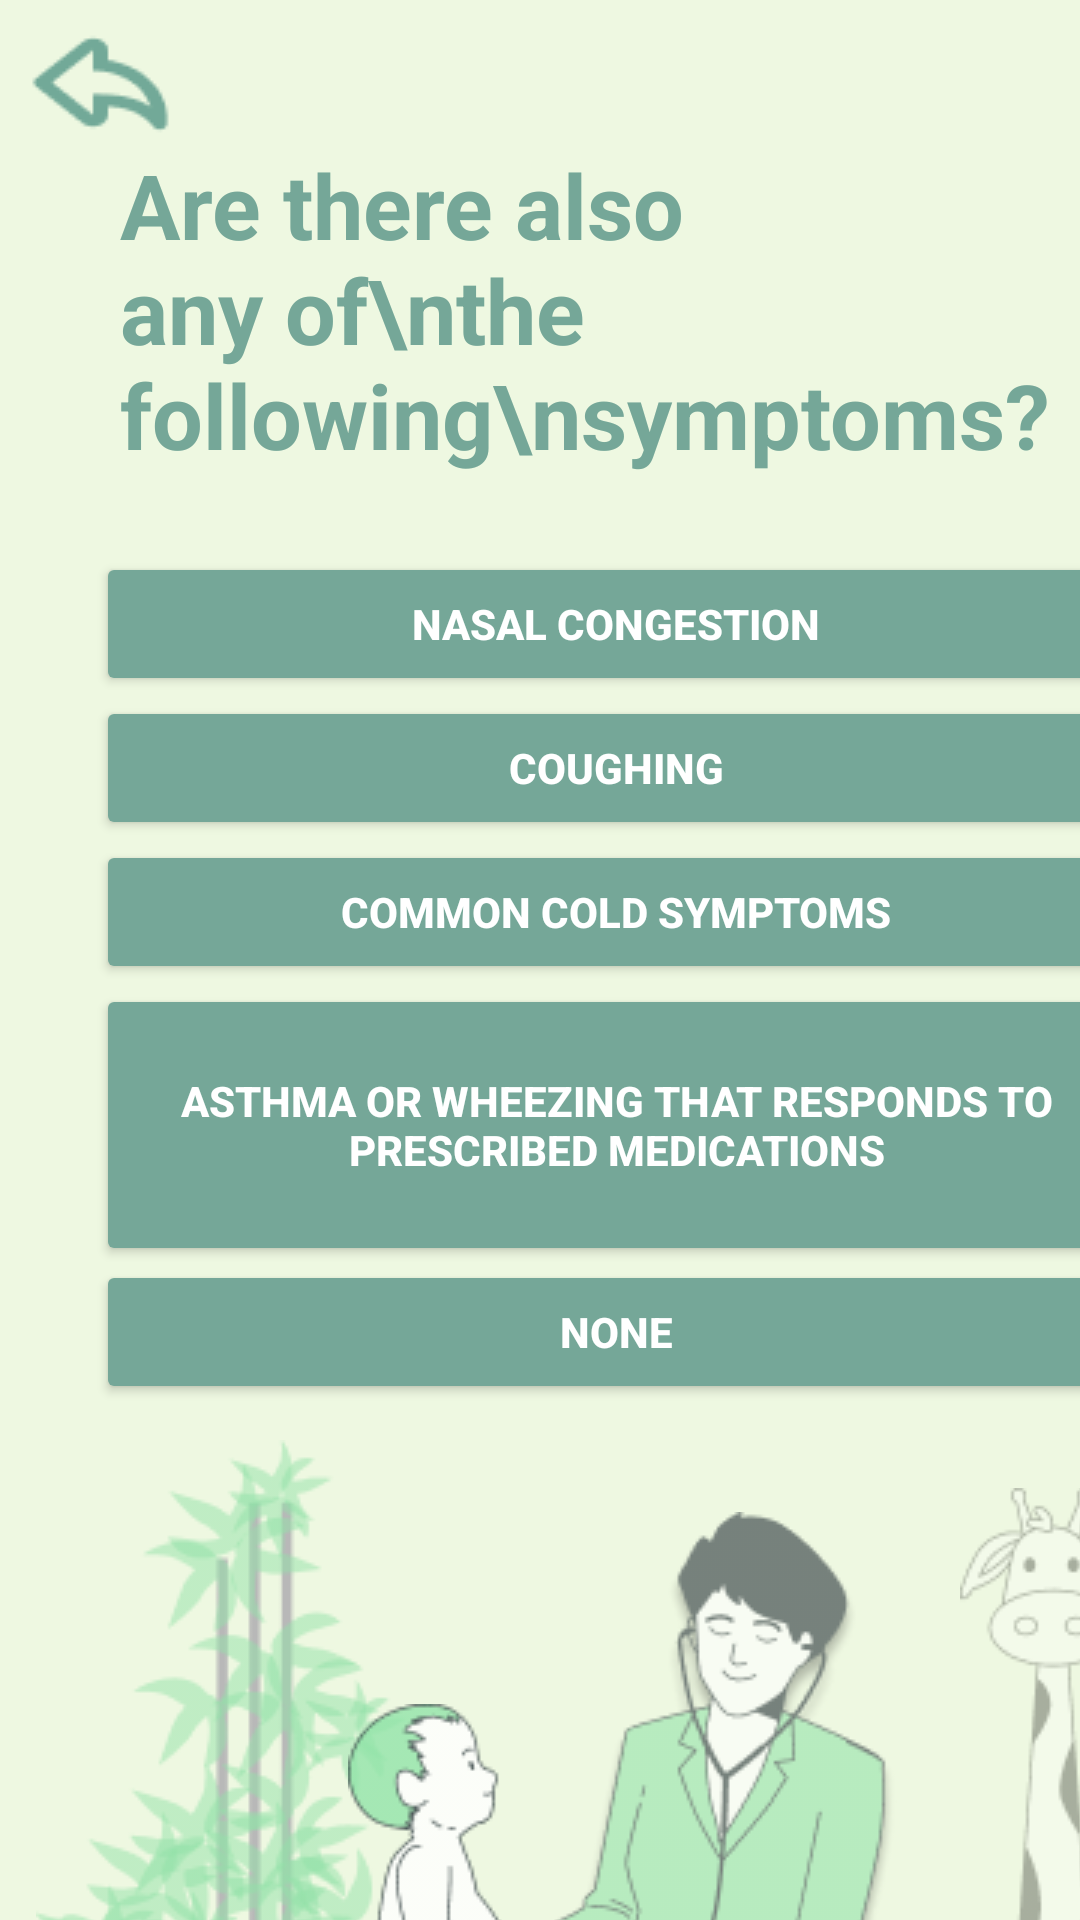

Icons on this 1080x1920 Android screen, each with the point to tap as (x,y):
arrowback: (100,84)
